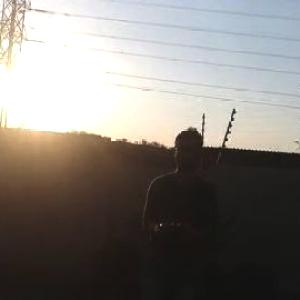follow: (133, 119, 220, 299)
